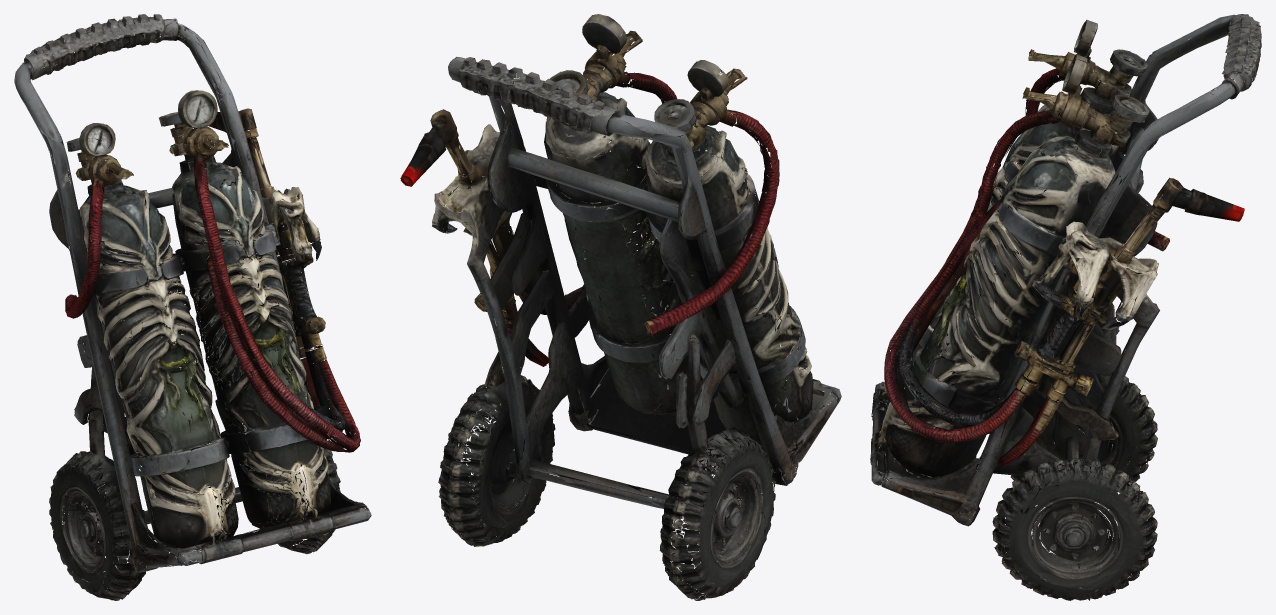
File: vesper_barricade_welding_rig.glb
The picture shows the model from 3 angles, left to right: view 1: azimuth 30°, elevation 25°; view 2: azimuth 150°, elevation 25°; view 3: azimuth 270°, elevation 25°; orthographic projection. The views are drawn at different scales.
Parts seen in each view (by area): view 1: node_0; view 2: node_0; view 3: node_0.
Boxes of the visible parts, x1,y1,x2,y2 form: node_0: (14,14,371,600); node_0: (400,14,841,600); node_0: (870,14,1261,600).
Size of the model in its own units: 0.5467 by 0.9985 by 0.696.
1 material, 1 textured.
